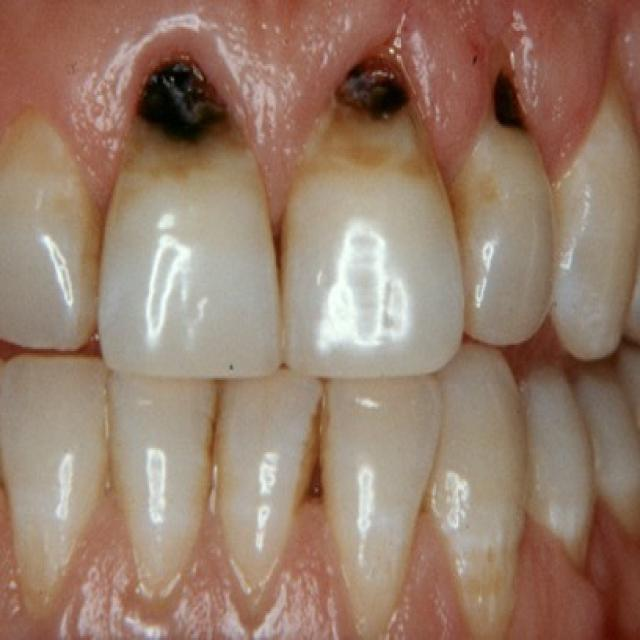caries: (278, 46, 461, 374), (105, 51, 284, 374), (318, 377, 440, 628), (452, 71, 558, 349), (434, 348, 530, 640), (217, 376, 316, 592)
